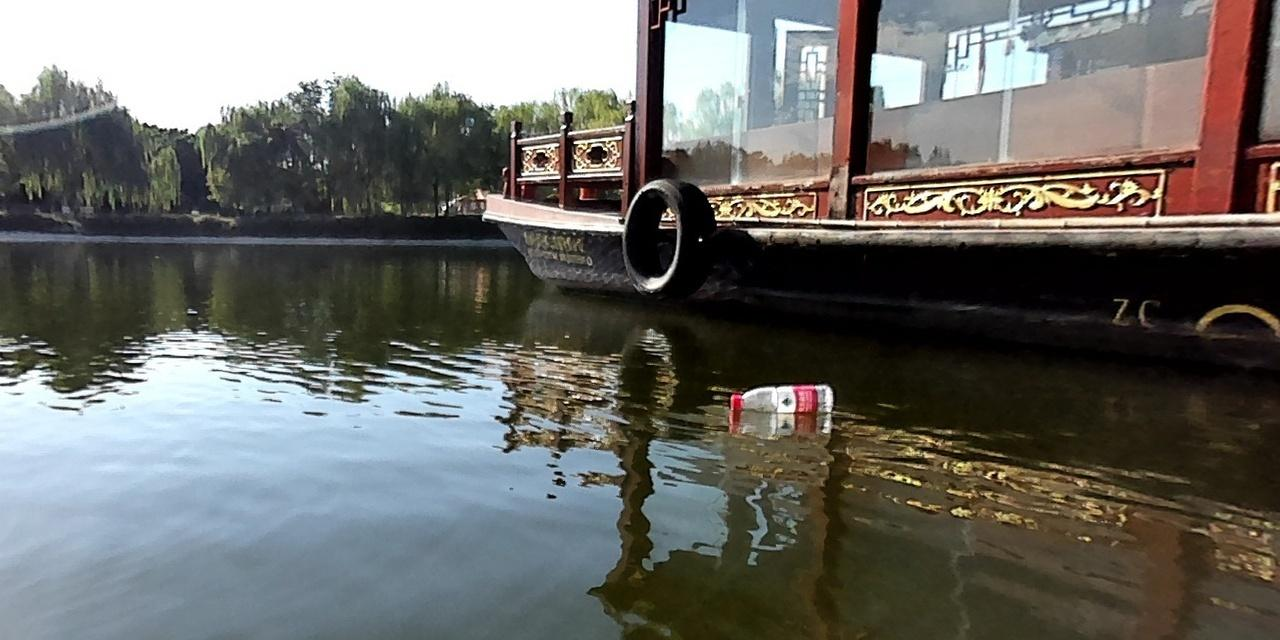bottle: (728, 381, 832, 413)
